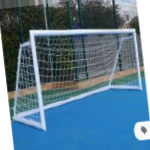goals: (11, 27, 143, 132)
